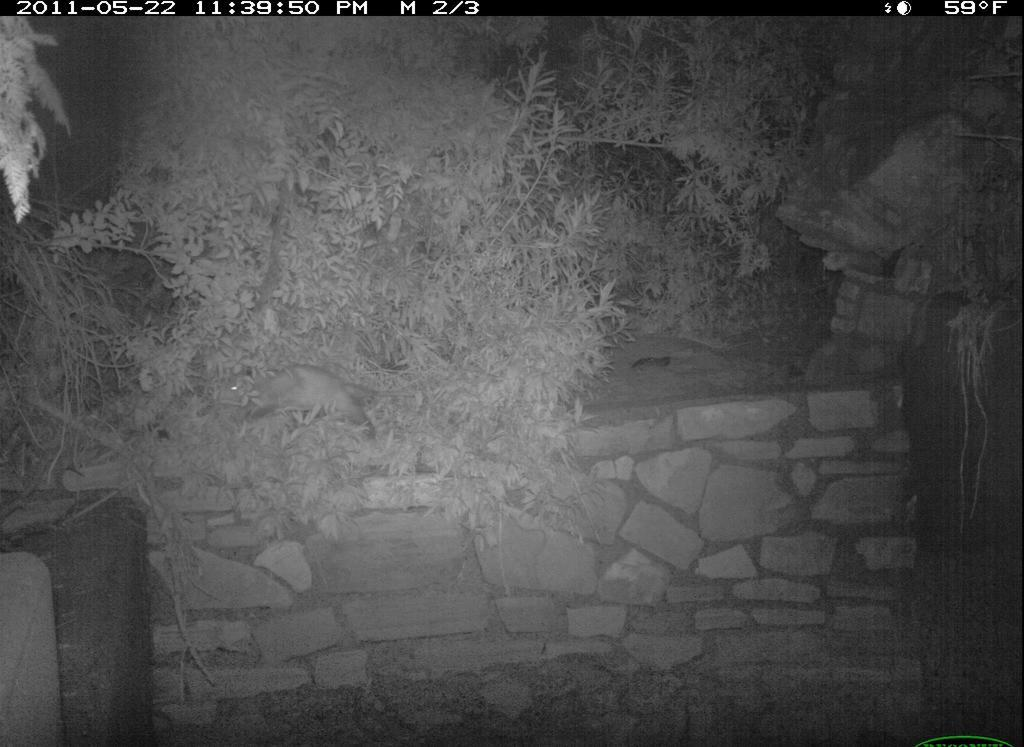opossum: (239, 356, 413, 461)
